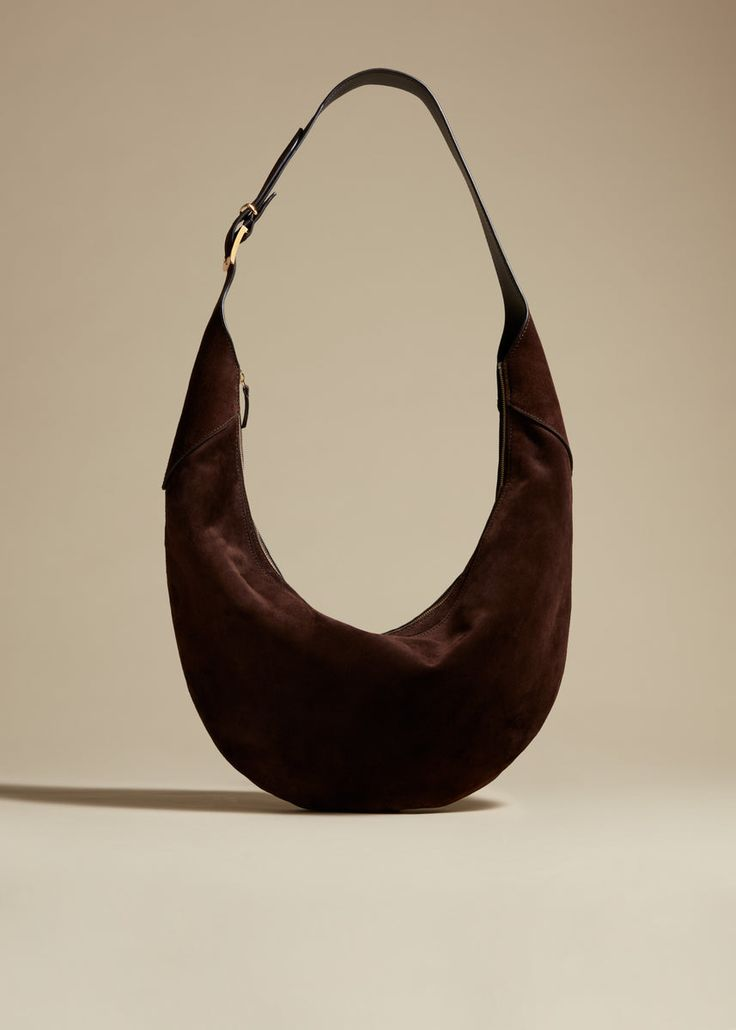gamuza: (163, 301, 574, 813)
